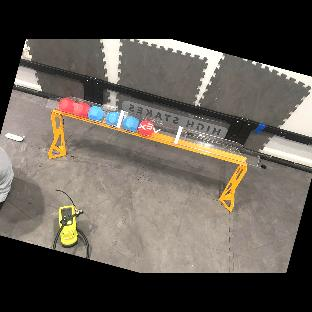blueingoal: (119, 111, 141, 133), (86, 104, 105, 122), (105, 109, 123, 127)
redingoal: (71, 99, 92, 120), (136, 117, 156, 138), (56, 94, 77, 113)
